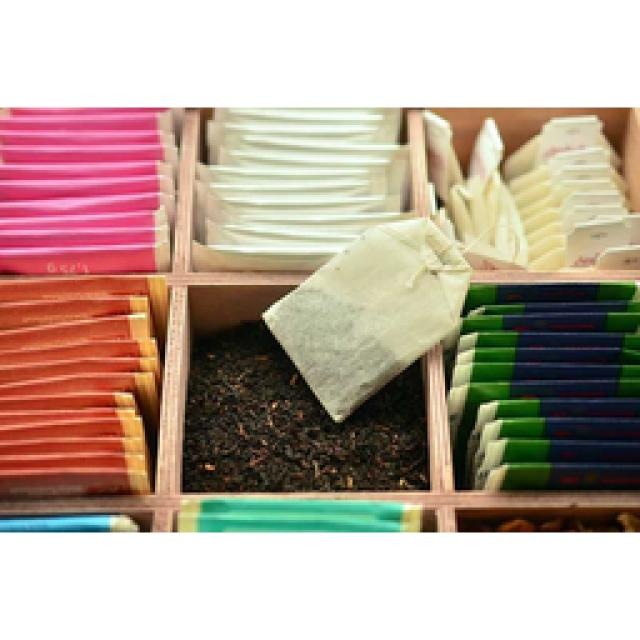tea-bags: (265, 218, 638, 488), (192, 108, 408, 268), (425, 110, 638, 270), (0, 278, 155, 492), (0, 108, 175, 270), (178, 498, 420, 530), (0, 515, 102, 530)
